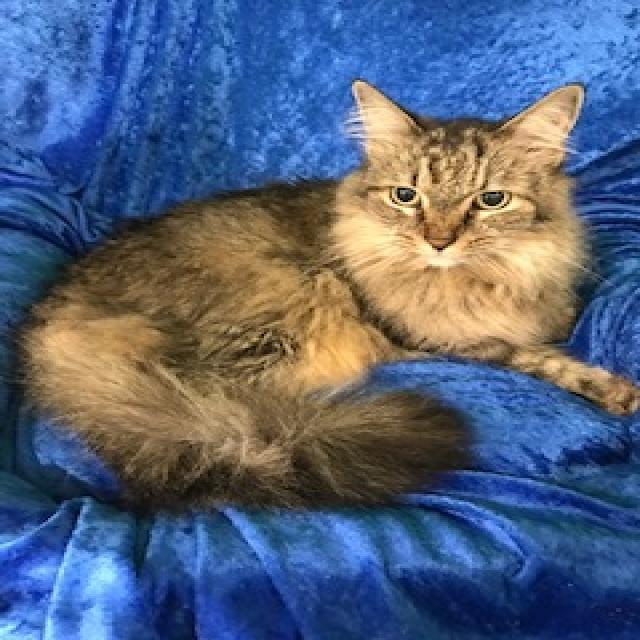maine_coon_cat: (319, 73, 611, 292)
